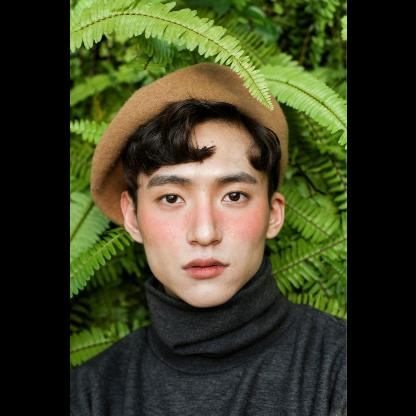Male: (122, 121, 284, 304)
